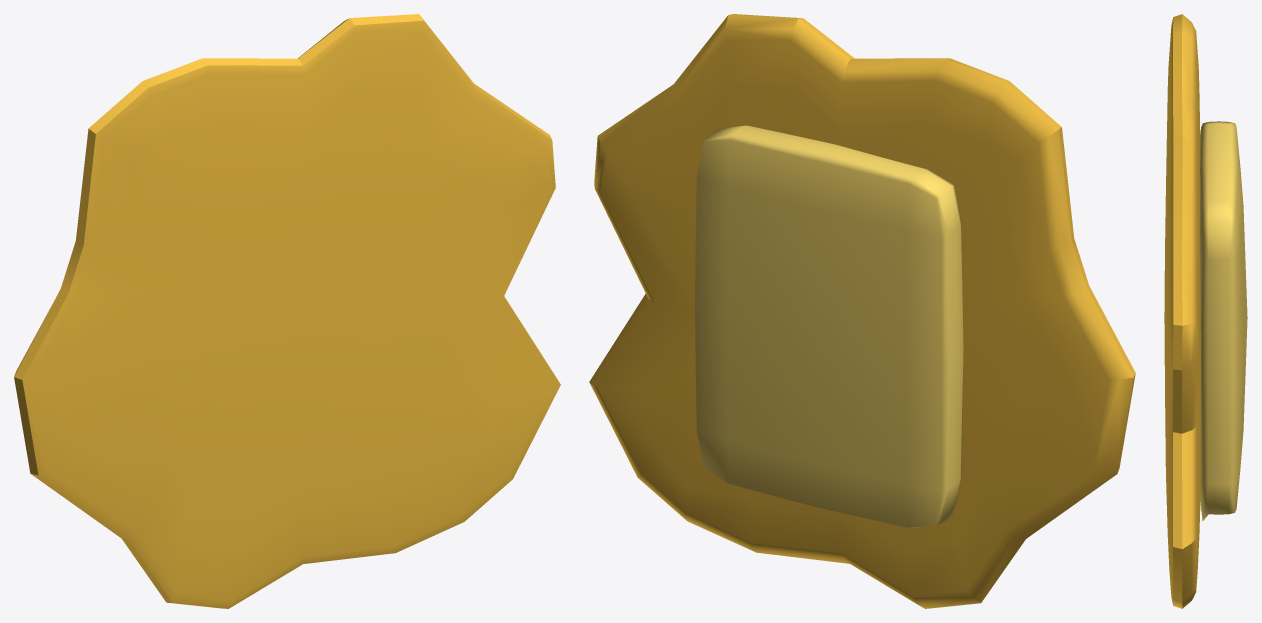
File: Butter Pickup.glb
3 views of the same model, side by side, from view 1: azimuth 30°, elevation 25°; view 2: azimuth 150°, elevation 25°; view 3: azimuth 270°, elevation 25° (orthographic). The views are drawn at different scales.
Parts seen in each view (by area): view 1: ButterSplat_geo; view 2: ButterSplat_geo, ButterPowerUp_geo; view 3: ButterSplat_geo, ButterPowerUp_geo.
Part boxes in pixels (x1=…): ButterSplat_geo: x1=14, y1=14, x2=560, y2=608; ButterSplat_geo: x1=589, y1=14, x2=1135, y2=608; ButterPowerUp_geo: x1=694, y1=125, x2=963, y2=527; ButterSplat_geo: x1=1164, y1=14, x2=1200, y2=608; ButterPowerUp_geo: x1=1200, y1=121, x2=1247, y2=521.
Size of the model in its own units: 2.72 by 2.67 by 0.4066.
